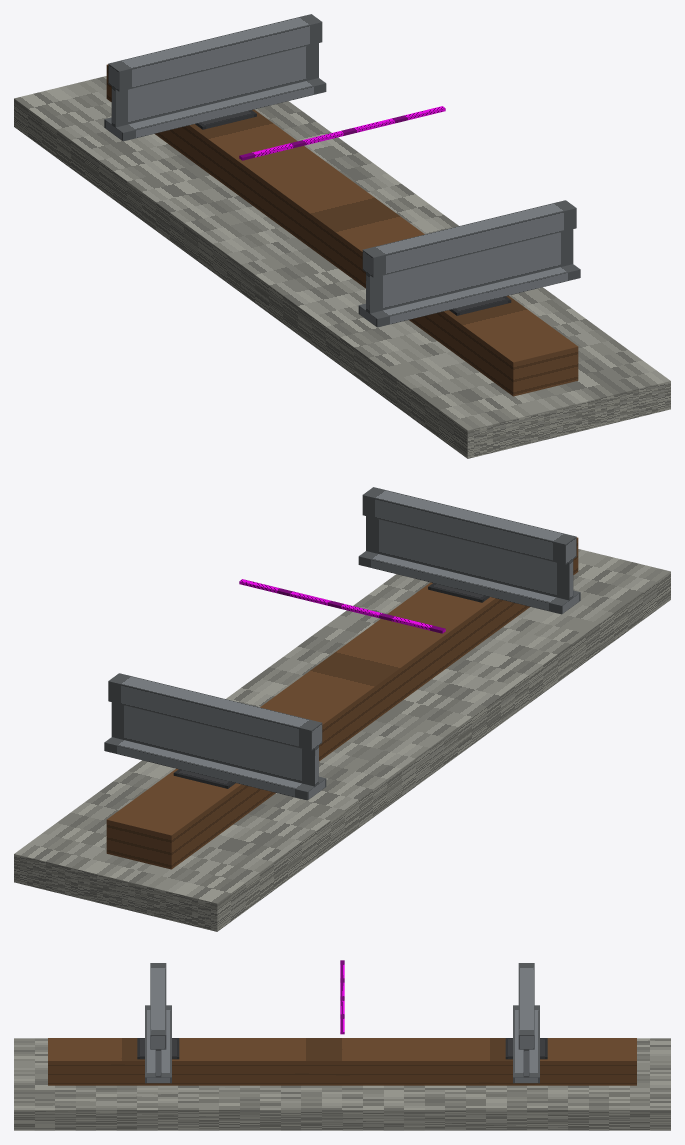
Rendered from wooden_track.obj.
The picture shows the model from 3 angles, top to bottom: view 1: azimuth 30°, elevation 25°; view 2: azimuth 150°, elevation 25°; view 3: azimuth 270°, elevation 25°; orthographic projection. The views are drawn at different scales.
Parts seen in each view (by area): view 1: BALLAST, SLEEPER, RAIL_LEFT, RAIL_RIGHT, GUIDE_CENTRE_LINE_HIDE, RAIL_BASEPLATES; view 2: BALLAST, SLEEPER, RAIL_RIGHT, RAIL_LEFT, GUIDE_CENTRE_LINE_HIDE, RAIL_BASEPLATES; view 3: BALLAST, SLEEPER, RAIL_LEFT, RAIL_RIGHT, RAIL_BASEPLATES, GUIDE_CENTRE_LINE_HIDE.
Boxes of the visible parts, <box> form: BALLAST: <box>14,76,670,458</box>; SLEEPER: <box>106,64,578,396</box>; RAIL_LEFT: <box>358,200,580,327</box>; RAIL_RIGHT: <box>104,14,326,141</box>; GUIDE_CENTRE_LINE_HIDE: <box>239,106,445,160</box>; RAIL_BASEPLATES: <box>195,110,511,315</box>; BALLAST: <box>14,549,670,931</box>; SLEEPER: <box>106,537,578,869</box>; RAIL_RIGHT: <box>104,673,326,800</box>; RAIL_LEFT: <box>358,487,580,614</box>; GUIDE_CENTRE_LINE_HIDE: <box>239,579,445,633</box>; RAIL_BASEPLATES: <box>173,583,489,788</box>; BALLAST: <box>14,1038,670,1130</box>; SLEEPER: <box>48,1038,636,1085</box>; RAIL_LEFT: <box>145,963,171,1083</box>; RAIL_RIGHT: <box>513,963,539,1083</box>; RAIL_BASEPLATES: <box>137,1038,547,1059</box>; GUIDE_CENTRE_LINE_HIDE: <box>340,960,344,1034</box>.
Bounding box in the file's own units: 0.75 × 0.48 × 2.9.
Materials: 5 (5 with a texture image).
